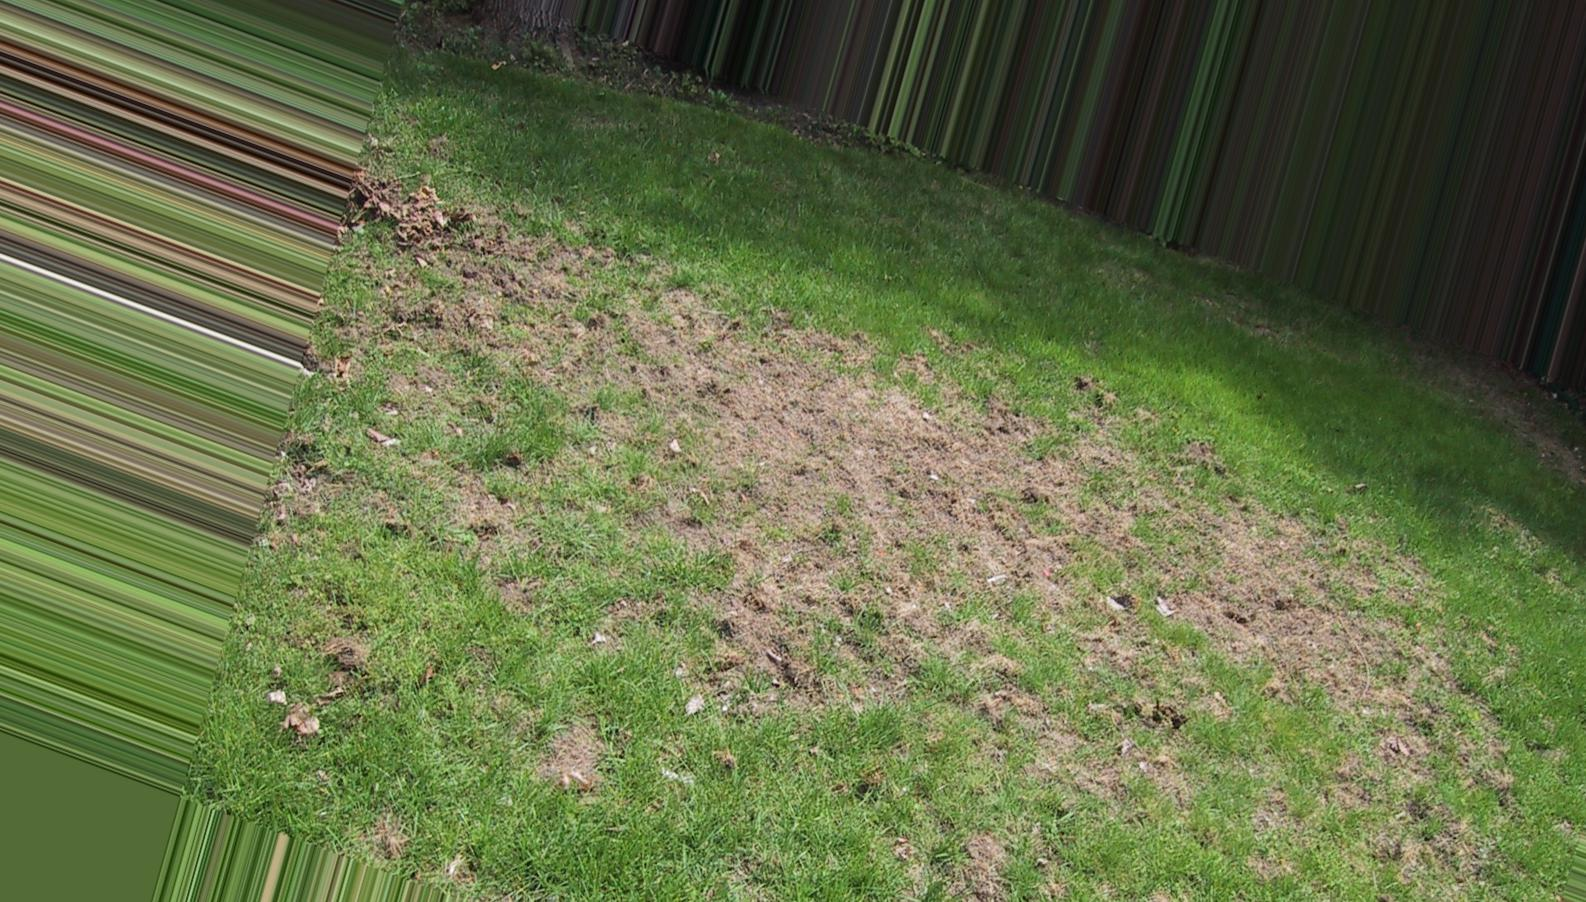patch: (723, 362, 978, 610), (1008, 475, 1333, 667), (481, 231, 652, 397)
